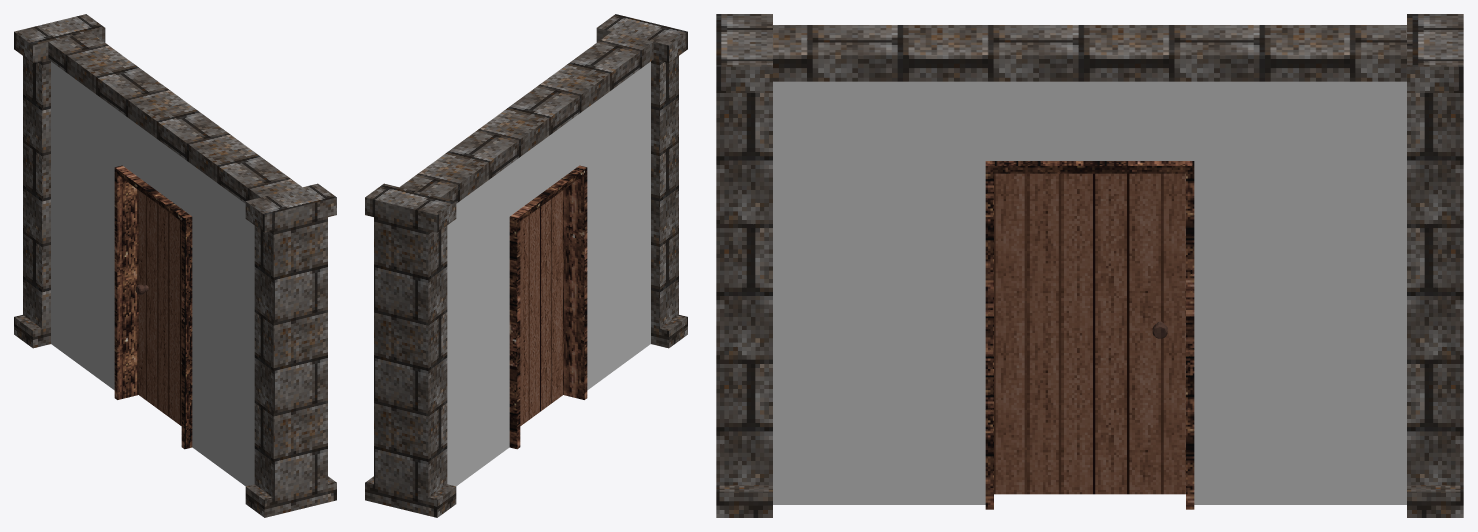
The model's file is pixel_wall_door_lowpoly.fbx.
The picture shows the model from 3 angles, left to right: view 1: azimuth 30°, elevation 25°; view 2: azimuth 150°, elevation 25°; view 3: azimuth 270°, elevation 25°; orthographic projection. The views are drawn at different scales.
Visible parts, largest first — view 1: psx_wall_door_bricks, psx_wall_wood_door, psx_wall_door_frame, psx_wall_door; view 2: psx_wall_door_bricks, psx_wall_wood_door, psx_wall_door_frame, psx_wall_door; view 3: psx_wall_wood_door, psx_wall_door_bricks, psx_wall_door, psx_wall_door_frame.
Boxes of the visible parts, <box> form: psx_wall_door_bricks: <box>14,14,336,517</box>; psx_wall_wood_door: <box>51,61,254,486</box>; psx_wall_door_frame: <box>114,165,192,449</box>; psx_wall_door: <box>138,190,181,425</box>; psx_wall_door_bricks: <box>365,14,687,517</box>; psx_wall_wood_door: <box>447,61,650,486</box>; psx_wall_door_frame: <box>509,165,587,449</box>; psx_wall_door: <box>520,190,563,425</box>; psx_wall_wood_door: <box>773,81,1406,504</box>; psx_wall_door_bricks: <box>716,14,1463,517</box>; psx_wall_door: <box>994,173,1185,494</box>; psx_wall_door_frame: <box>985,161,1194,509</box>.
Size of the model in its own units: 50 by 200 by 300.
